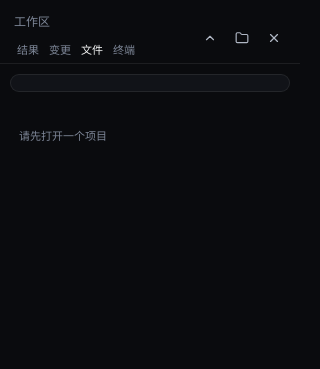
it: FileSidebar plan editor › renders a read-only result summary after all steps complete
Click the tab "结果" at (28, 51), box [14,40,42,62]
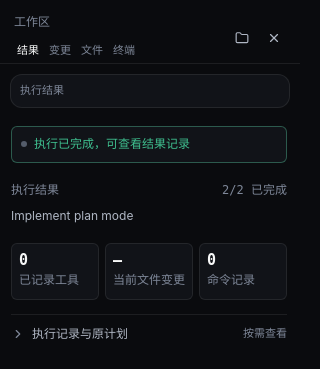
expect the text "执行结果" is shown 2 times: met, box [10,74,290,108]; [11,180,59,199]
expect the text "已记录工具" is shown: met, box [19,272,79,287]
expect the element named "执行记录与原计划" is shown: met, box [11,314,287,353]
